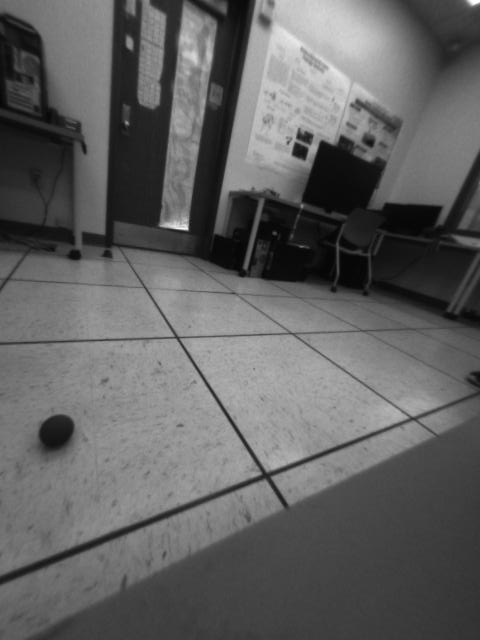dogtoy: (34, 403, 80, 453)
